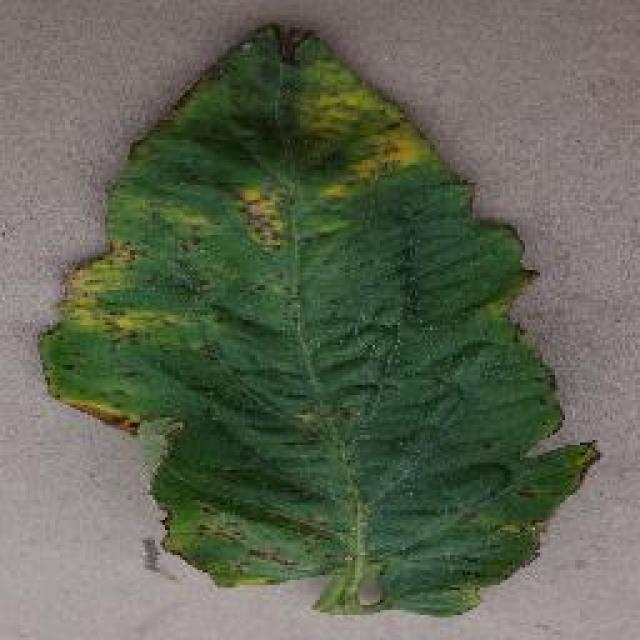Tomato___Bacterial_spot: (34, 23, 612, 620)
